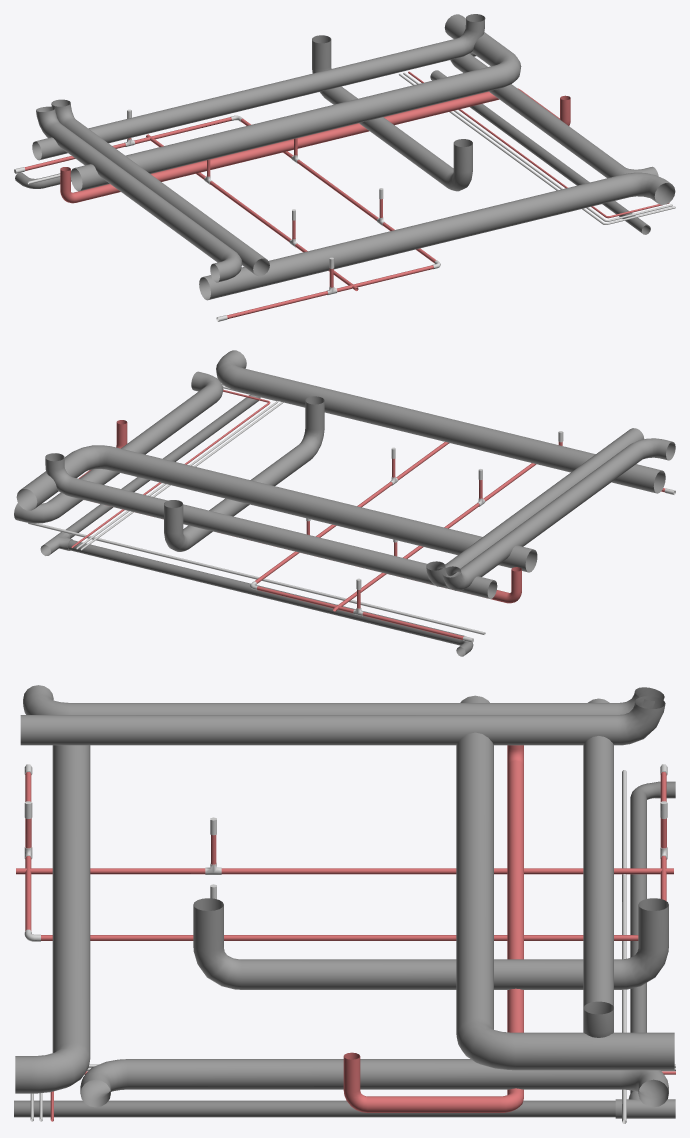
The picture shows the model from 3 angles, top to bottom: view 1: azimuth 30°, elevation 25°; view 2: azimuth 150°, elevation 25°; view 3: azimuth 270°, elevation 25°; orthographic projection. The views are drawn at different scales.
Visible parts, largest first — view 1: SM_H_Building_FutureTech_HLight_01_InterWall_10B; view 2: SM_H_Building_FutureTech_HLight_01_InterWall_10B; view 3: SM_H_Building_FutureTech_HLight_01_InterWall_10B.
Boxes of the visible parts, <box> form: SM_H_Building_FutureTech_HLight_01_InterWall_10B: <box>14,14,675,321</box>; SM_H_Building_FutureTech_HLight_01_InterWall_10B: <box>14,350,675,656</box>; SM_H_Building_FutureTech_HLight_01_InterWall_10B: <box>14,685,675,1123</box>.
Bounding box in the file's own units: 263 × 332 × 53.89.
